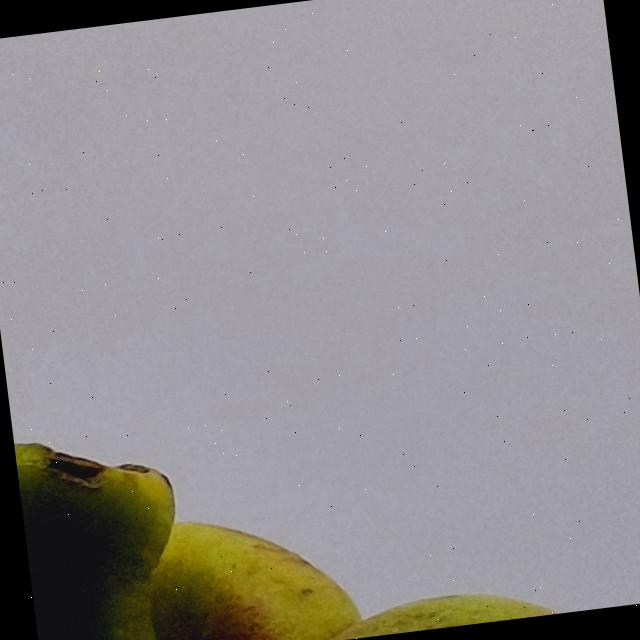mangosteen: (10, 345, 640, 640)
